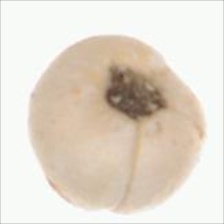L4: (28, 34, 207, 214)
